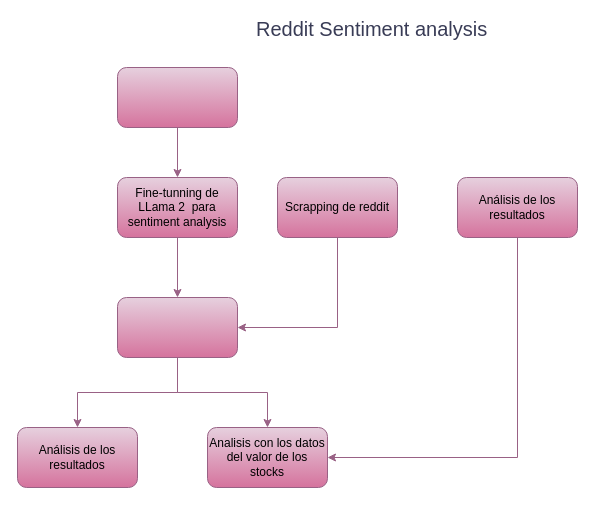
Image size: 595x505. Some labels were removed from this diagram. Here are the shapes that lost their labels. From the top down, the box of each, then its label:
(116, 66, 238, 128): Encontrar dataset etiquetado
(116, 296, 238, 358): Classificar posts de reddit
